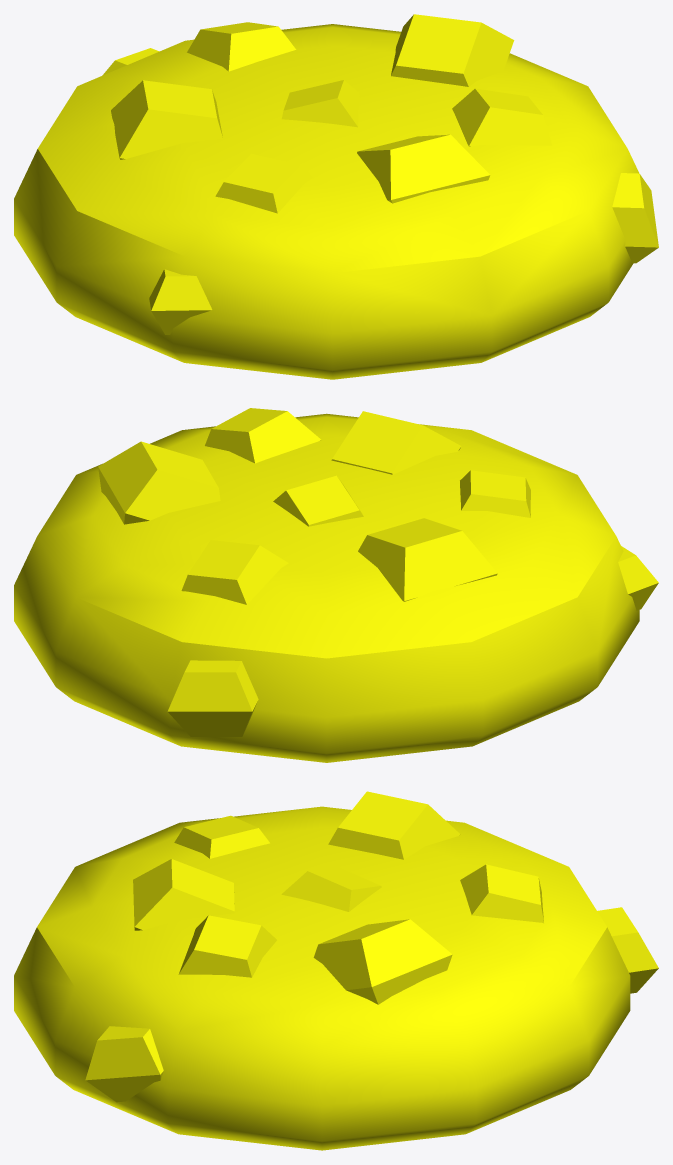
Rendered from kaykit-cookie.glb.
3 renders of one model, top to bottom at view 1: azimuth 30°, elevation 25°; view 2: azimuth 150°, elevation 25°; view 3: azimuth 270°, elevation 25°, orthographic. The views are drawn at different scales.
Parts seen in each view (by area): view 1: cookie; view 2: cookie; view 3: cookie.
Part boxes in pixels (x1,y1,x2,y2): cookie: (14, 14, 658, 379); cookie: (14, 408, 658, 762); cookie: (14, 791, 658, 1150).
Size of the model in its own units: 0.511 by 0.1554 by 0.5348.
